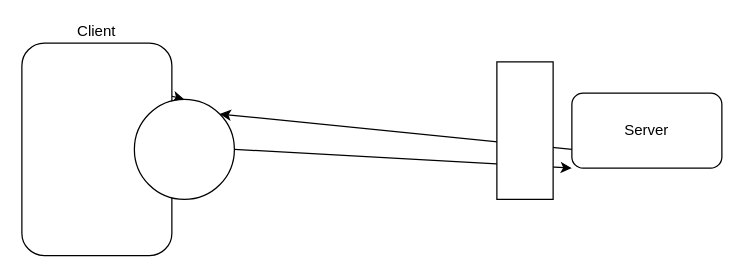
This 744x278 diagram has some shape labels left out. The box of each missing label's shape, as (x1, y1, x2, y2) in pixels:
interceptors: (133, 98, 234, 199)
midleware: (496, 61, 553, 199)
